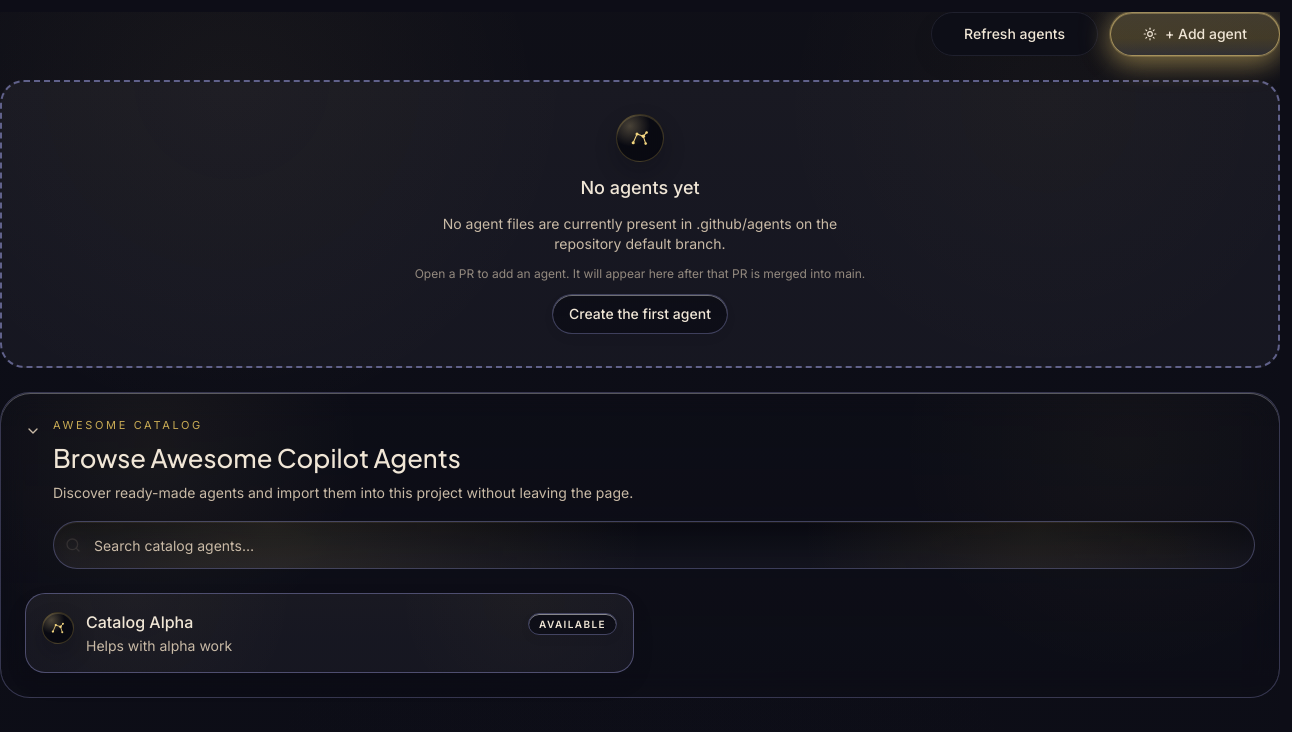
AgentsPanel › collapses and expands the Awesome Catalog section
The width and height of the screenshot is (1292, 732).
expect the heading "Catalog Alpha" is shown: met, box [86,612,193,632]
Click the button "Browse Awesome Copilot Agents" at (128,425), box [25,417,1255,506]
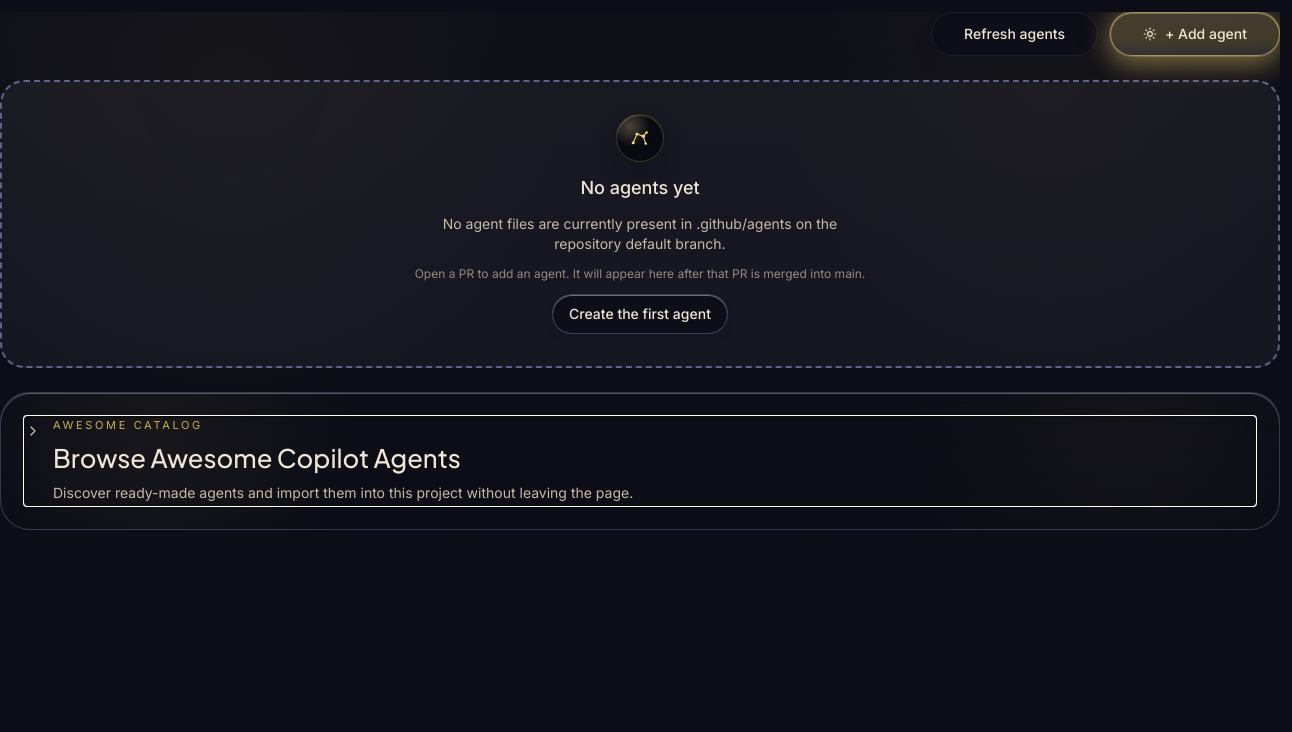
expect the button "Catalog Alpha" is gone: met
Click the button "Browse Awesome Copilot Agents" at (128,425), box [25,417,1255,506]
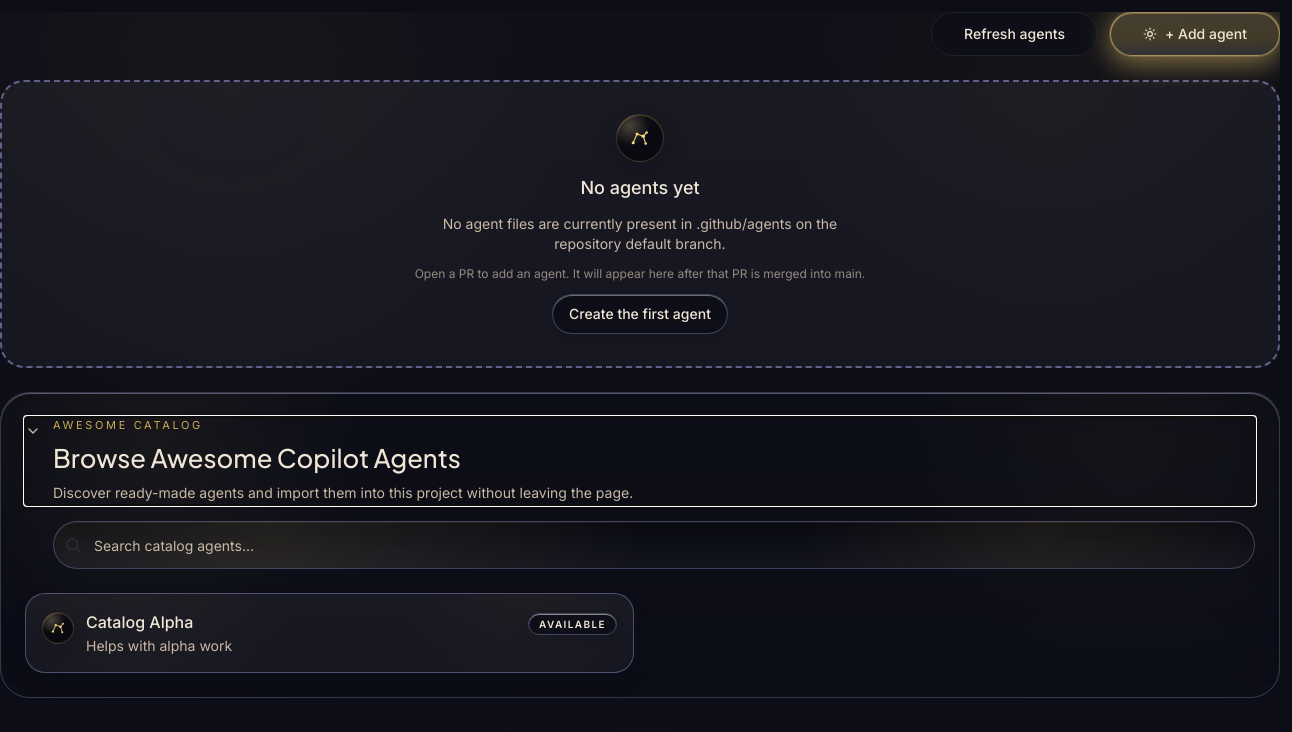
expect the heading "Catalog Alpha" is shown: met, box [86,612,193,632]
